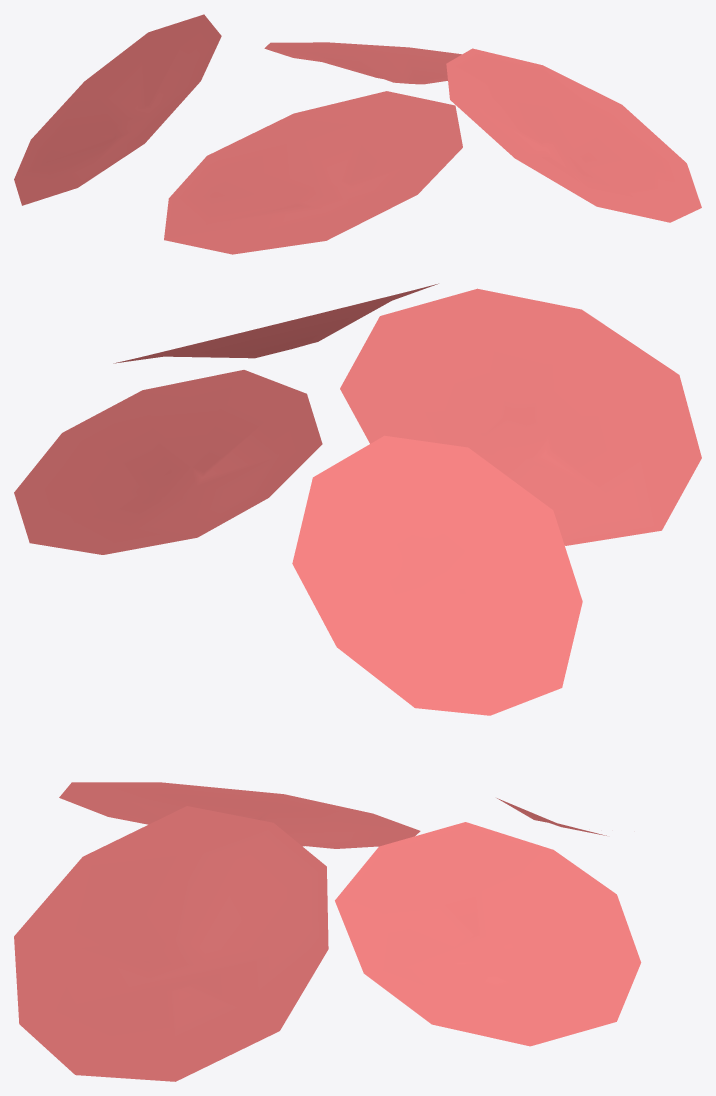
File: SM_Red_Flower.glb
3 views of the same model, one above another, from view 1: azimuth 30°, elevation 25°; view 2: azimuth 150°, elevation 25°; view 3: azimuth 270°, elevation 25° (orthographic). The views are drawn at different scales.
Parts seen in each view (by area): view 1: SM_Red_Flower; view 2: SM_Red_Flower; view 3: SM_Red_Flower.
Part boxes in pixels (bbox=[...]): SM_Red_Flower: bbox=[14, 14, 701, 254]; SM_Red_Flower: bbox=[14, 283, 701, 715]; SM_Red_Flower: bbox=[14, 782, 641, 1081].
Size of the model in its own units: 0.2909 by 0.086 by 0.2847.
